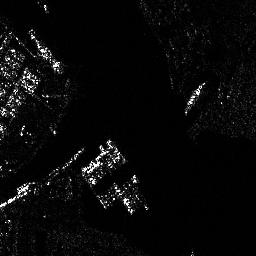ship: (27, 26, 64, 73), (184, 79, 205, 114), (15, 179, 36, 194)
